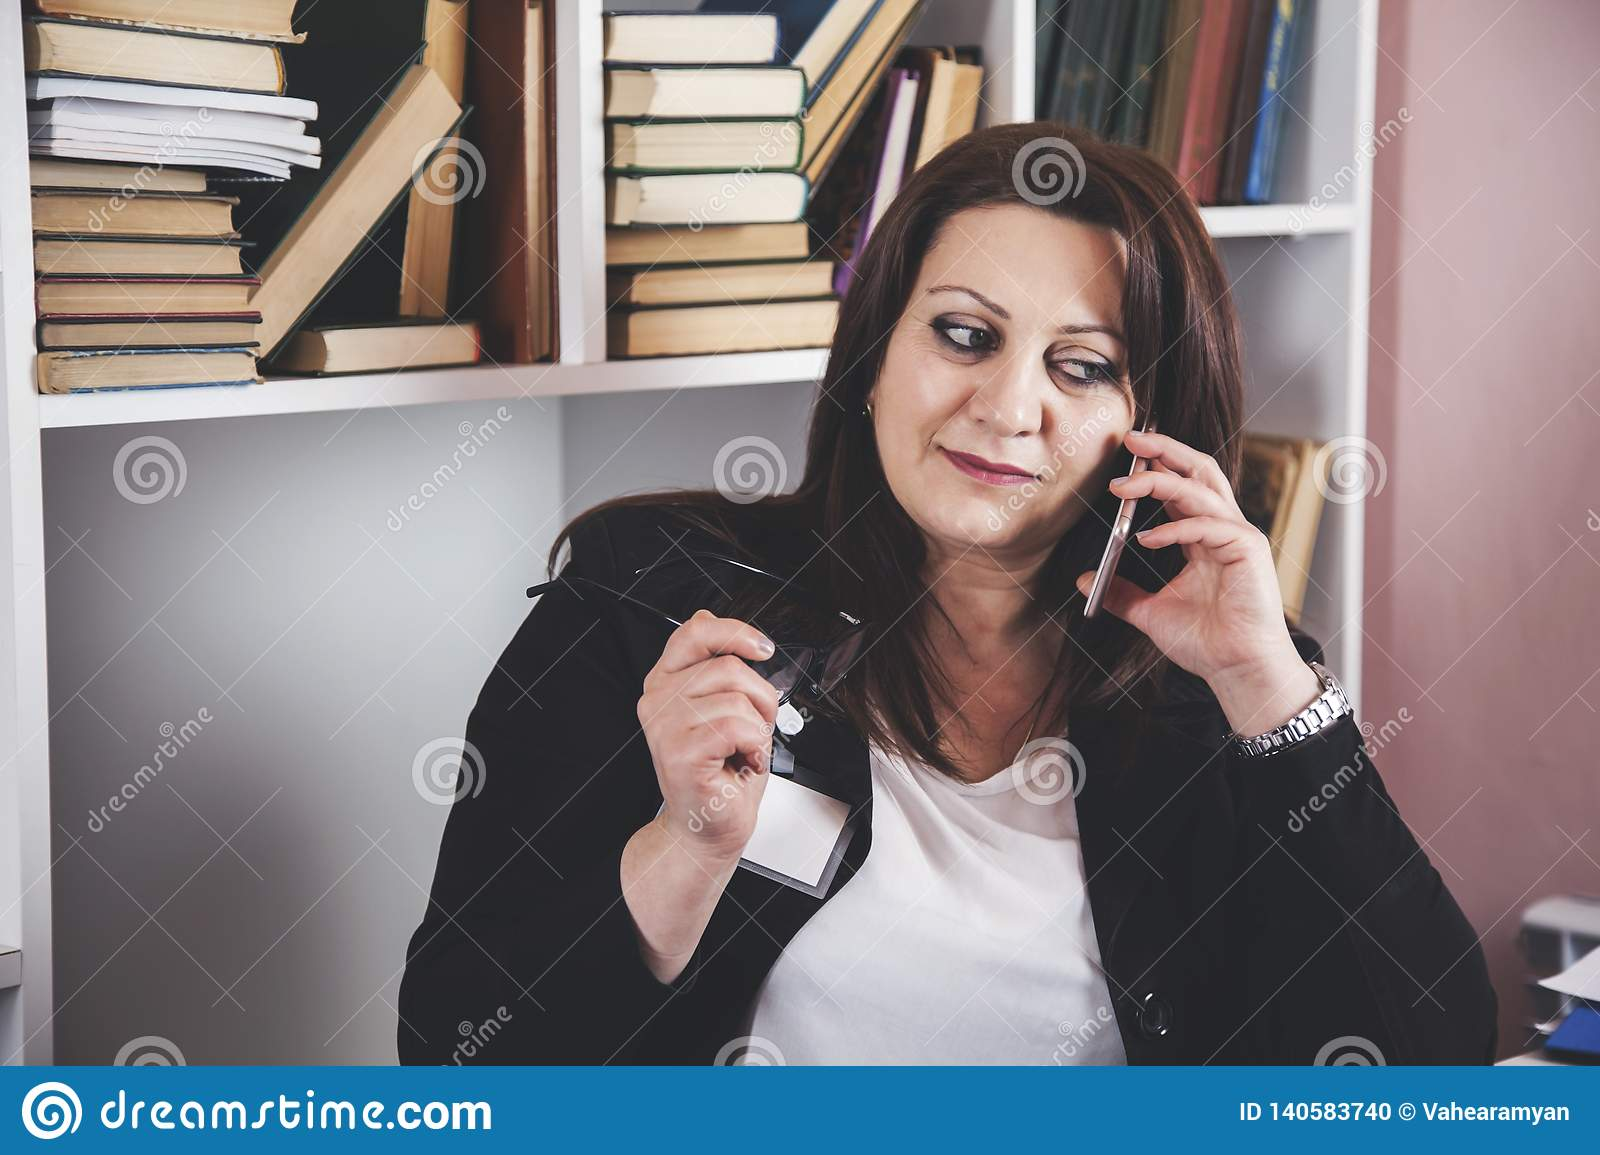phone: (1084, 409, 1160, 620)
talk: (889, 276, 1277, 691)
